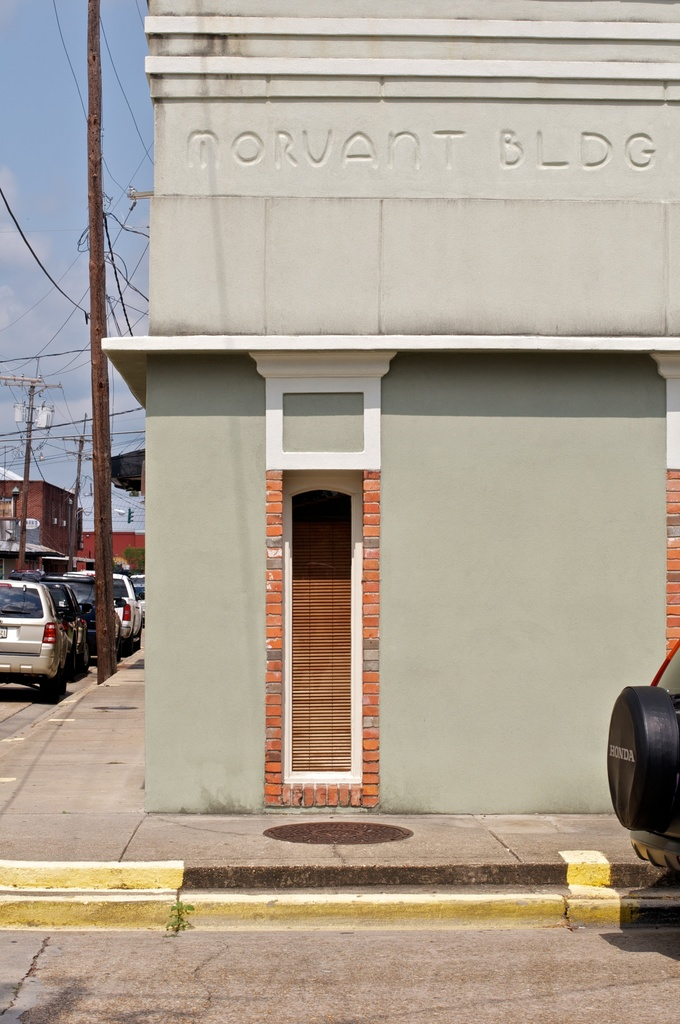Car: (0, 576, 84, 693), (65, 566, 140, 646)
